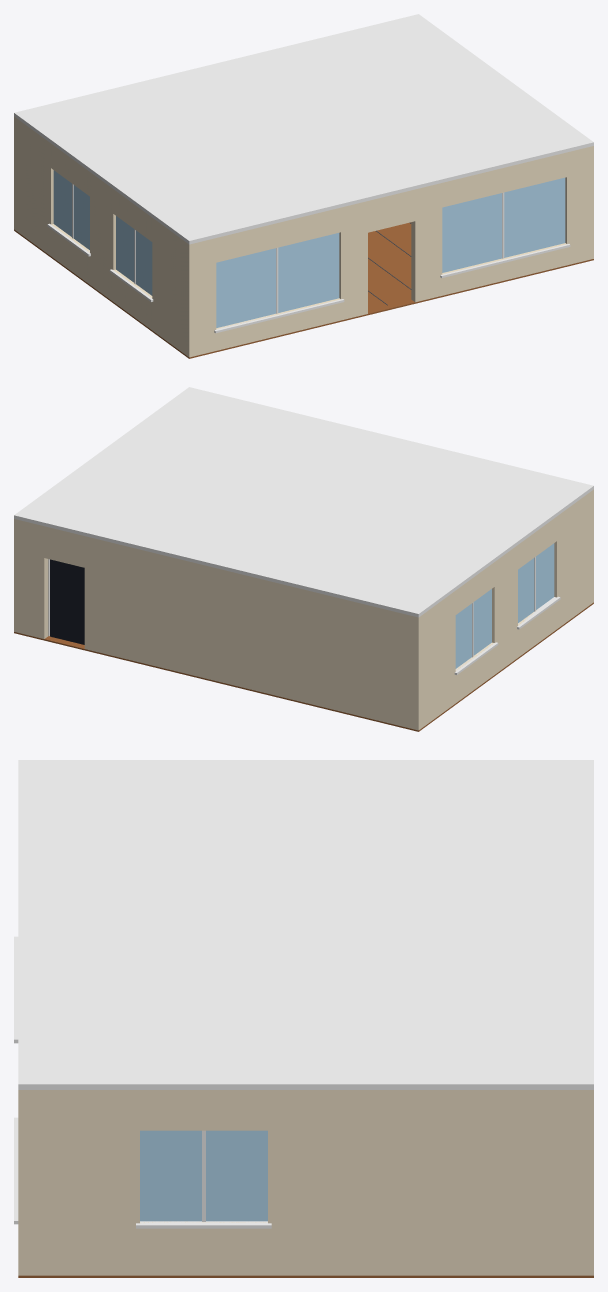
Rendered from cafe-interior.glb.
3 views of the same model, one above another, from view 1: azimuth 30°, elevation 25°; view 2: azimuth 150°, elevation 25°; view 3: azimuth 270°, elevation 25° (orthographic). The views are drawn at different scales.
Parts seen in each view (by area): view 1: ceiling, wall_front, walls, floor; view 2: ceiling, walls, floor; view 3: ceiling, walls, wall_front, floor.
Part boxes in pixels (box(x1,y1,x2,y2)): ceiling: box(14, 14, 593, 244); wall_front: box(189, 147, 587, 357); walls: box(14, 116, 593, 356); floor: box(14, 222, 593, 358); ceiling: box(14, 387, 593, 617); walls: box(14, 489, 593, 730); floor: box(14, 602, 593, 731); ceiling: box(18, 760, 593, 1089); walls: box(18, 1090, 593, 1275); wall_front: box(14, 936, 31, 1275); floor: box(18, 1275, 593, 1277).
Bounding box in the file's own units: 12.14 × 3.34 × 9.07.
